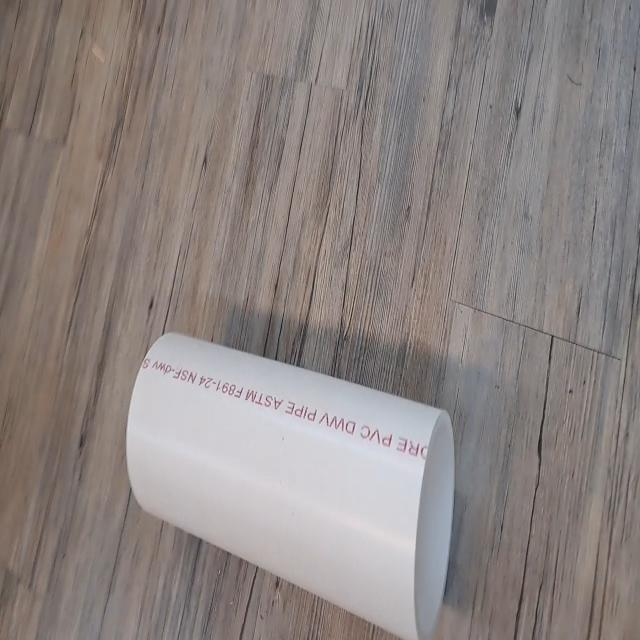CORAL: (124, 313, 460, 640)
